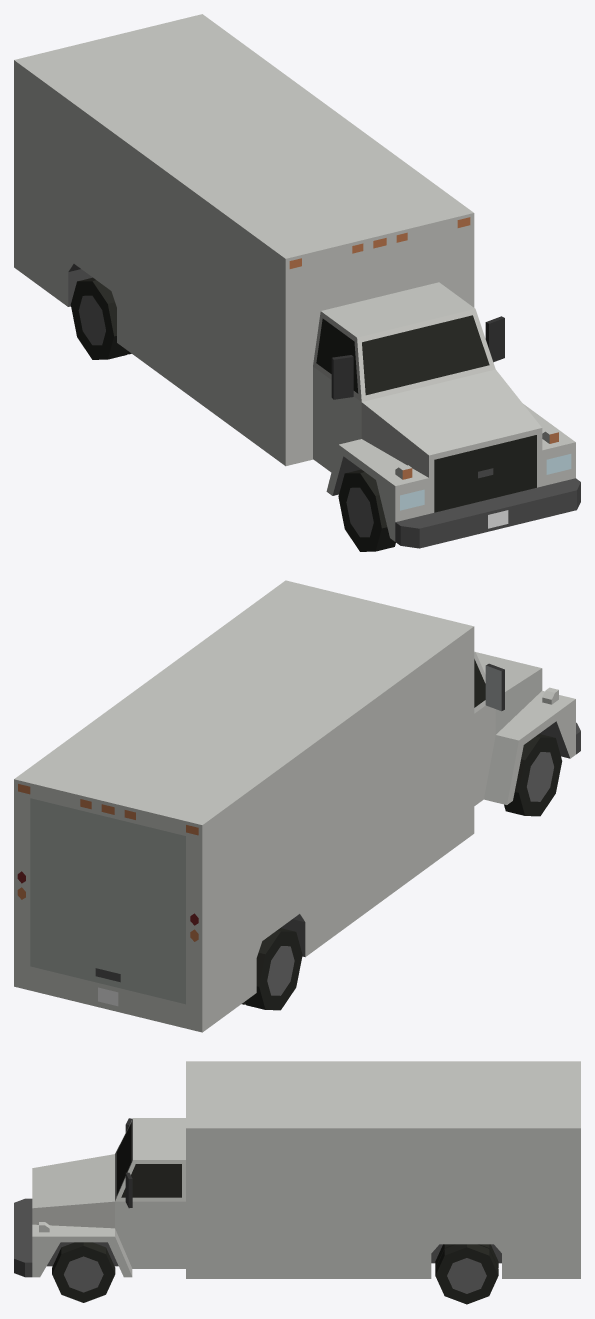
Rendered from Veh_Truck_01_White.glb.
3 views of the same model, one above another, from view 1: azimuth 30°, elevation 25°; view 2: azimuth 150°, elevation 25°; view 3: azimuth 270°, elevation 25° (orthographic). The views are drawn at different scales.
Visible parts, largest first — view 1: Truck_01_White, Wheel_RR, Wheel_FR; view 2: Truck_01_White, Wheel_RR, Wheel_FR; view 3: Truck_01_White, Wheel_RL, Wheel_FL.
Boxes of the visible parts, x1,y1,x2,y2 form: Truck_01_White: [14, 14, 580, 548]; Wheel_RR: [70, 277, 131, 359]; Wheel_FR: [338, 469, 395, 551]; Truck_01_White: [14, 580, 580, 1032]; Wheel_RR: [242, 928, 302, 1010]; Wheel_FR: [504, 734, 562, 816]; Truck_01_White: [14, 1061, 580, 1278]; Wheel_RL: [435, 1244, 498, 1304]; Wheel_FL: [52, 1242, 115, 1302].
Bounding box in the file's own units: 1.35 × 1.66 × 4.85.
1 material, 1 textured.
